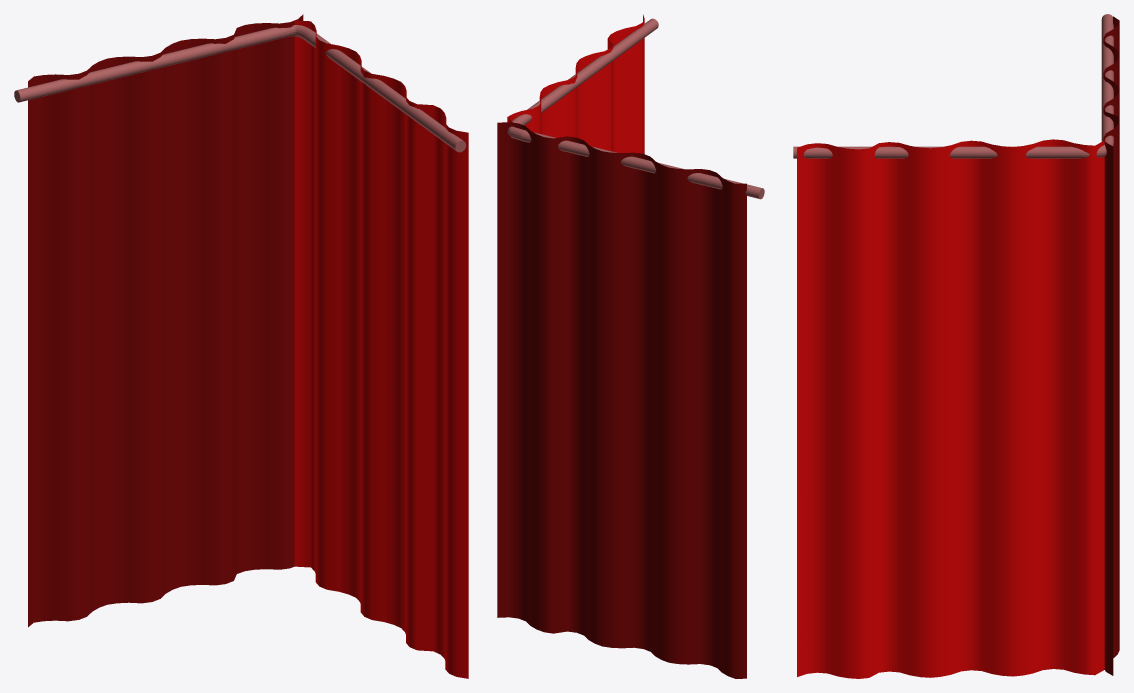
Rendered from PROP_CortinasBanheiro.fbx.
The picture shows the model from 3 angles, left to right: view 1: azimuth 30°, elevation 25°; view 2: azimuth 150°, elevation 25°; view 3: azimuth 270°, elevation 25°; orthographic projection. The views are drawn at different scales.
Visible parts, largest first — view 1: Cortina3, Cortina2, FerroApoio; view 2: Cortina3, Cortina2, FerroApoio; view 3: Cortina2, Cortina3, FerroApoio.
Part boxes in pixels (x1,y1,x2,y2): Cortina3: (28,14,303,627); Cortina2: (294,20,468,678); FerroApoio: (14,25,466,152); Cortina3: (497,122,746,678); Cortina2: (507,14,644,154); FerroApoio: (507,18,764,199); Cortina2: (797,139,1104,678); Cortina3: (1103,16,1119,675); FerroApoio: (793,14,1113,158).
Size of the model in its own units: 14.4 by 25.47 by 14.23.
